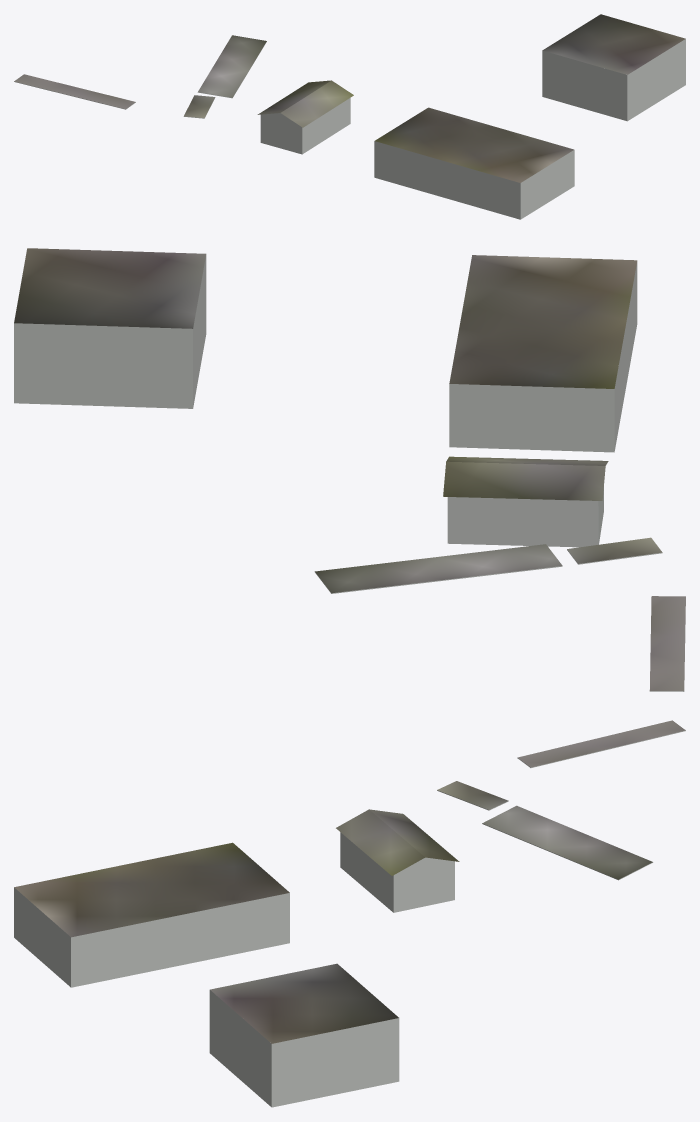
The model's file is LSZH_-1_2.glb.
3 views of the same model, one above another, from view 1: azimuth 30°, elevation 25°; view 2: azimuth 150°, elevation 25°; view 3: azimuth 270°, elevation 25° (orthographic). The views are drawn at different scales.
Visible parts, largest first — view 1: building_5ea3e425cebcb268, building_e4a8f35722079611; view 2: building_5ea3e425cebcb268, building_e4a8f35722079611; view 3: building_5ea3e425cebcb268, building_e4a8f35722079611.
Part boxes in pixels (x1,y1,x2,y2): building_5ea3e425cebcb268: [14, 14, 685, 182]; building_e4a8f35722079611: [14, 39, 685, 219]; building_5ea3e425cebcb268: [14, 248, 685, 690]; building_e4a8f35722079611: [14, 255, 685, 691]; building_5ea3e425cebcb268: [14, 720, 685, 1043]; building_e4a8f35722079611: [14, 730, 685, 1107].
Size of what is drawn, in the model's own units: 119 by 10.64 by 96.06.
2 materials, 1 textured.
